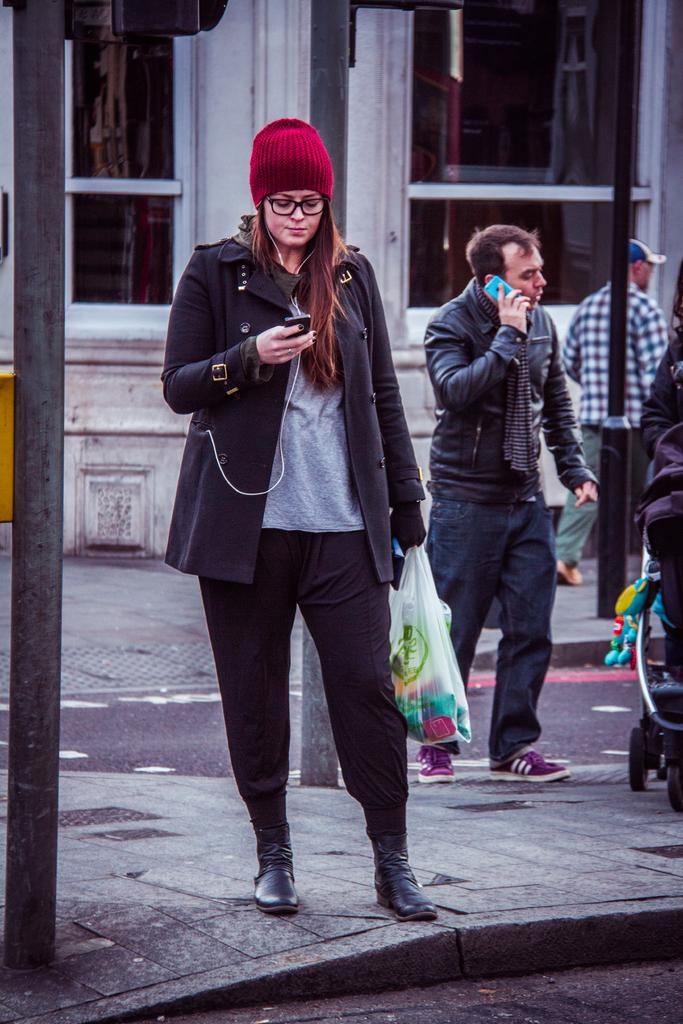Hat: (623, 235, 667, 263)
